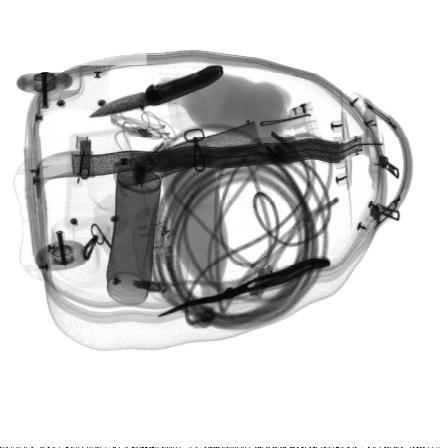Knife: (88, 65, 224, 118)
Scissors: (155, 259, 332, 318)
